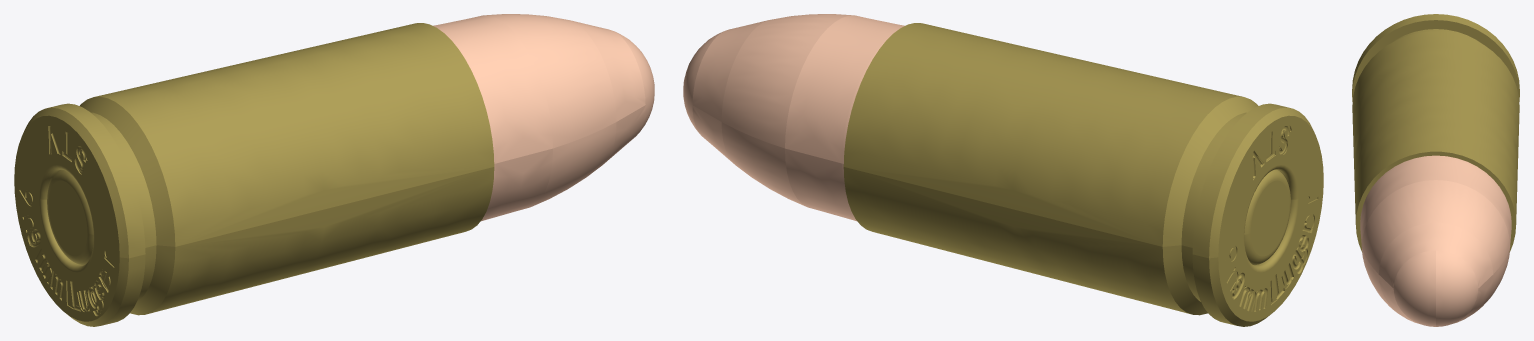
File: 9x19_FMJ_8g_NATO.gltf
The picture shows the model from 3 angles, left to right: view 1: azimuth 30°, elevation 25°; view 2: azimuth 150°, elevation 25°; view 3: azimuth 270°, elevation 25°; orthographic projection. The views are drawn at different scales.
Parts seen in each view (by area): view 1: part_0_brass, part_4_copper, part_1_brass; view 2: part_0_brass, part_4_copper, part_1_brass; view 3: part_0_brass, part_4_copper.
Part boxes in pixels (x1,y1,x2,y2): part_0_brass: (14, 23, 494, 326); part_4_copper: (433, 14, 654, 221); part_1_brass: (47, 169, 93, 265); part_0_brass: (843, 23, 1323, 326); part_4_copper: (683, 14, 904, 221); part_1_brass: (1244, 169, 1290, 265); part_0_brass: (1352, 14, 1519, 252); part_4_copper: (1360, 155, 1511, 326).
Bounding box in the file's own units: 29.69 × 9.96 × 9.96.
